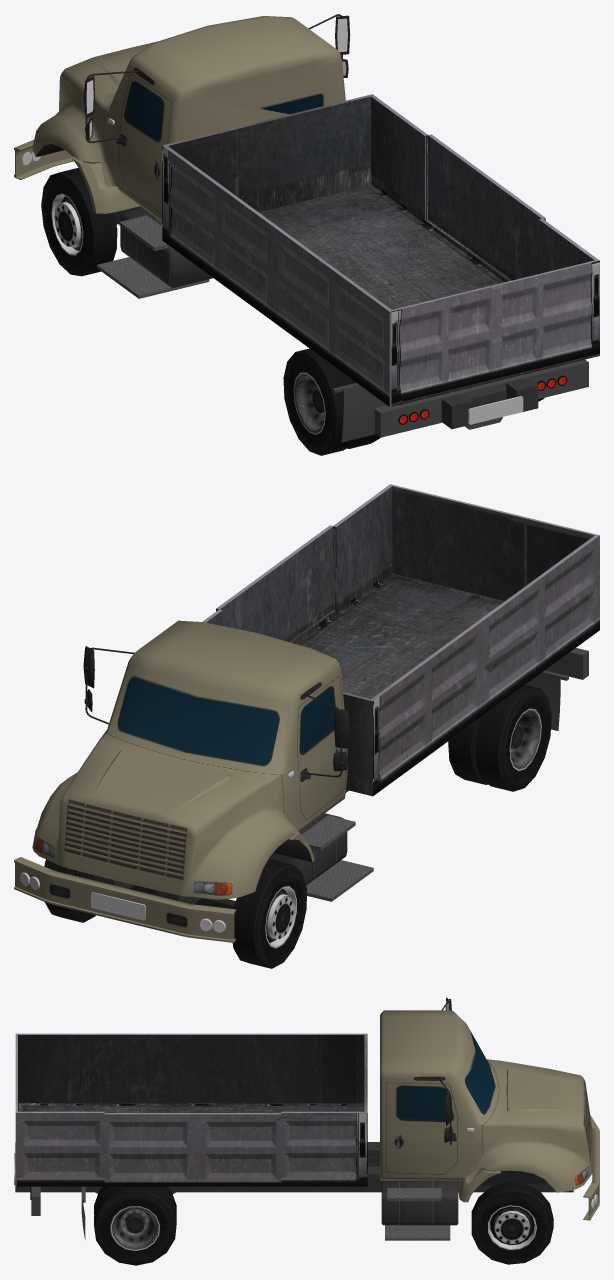
File: M_truck.fbx
3 renders of one model, top to bottom at view 1: azimuth 30°, elevation 25°; view 2: azimuth 150°, elevation 25°; view 3: azimuth 270°, elevation 25°, orthographic. The views are drawn at different scales.
Parts seen in each view (by area): view 1: M_truck_bed, M_truck_front, M_truck_bed_door, M_truck_bed_door02, M_wheel02, M_wheel_back02, M_truck_down, M_truck_front_piece; view 2: M_truck_front, M_truck_bed, M_truck_bed_door, M_truck_front_piece, M_truck_bed_door02, M_wheel_back02, M_wheel02, M_truck_down, M_wheel01; view 3: M_truck_bed, M_truck_front, M_truck_bed_door02, M_wheel_back01, M_wheel01, M_truck_down, M_truck_front_piece.
Part boxes in pixels (x1,y1,x2,y2): M_truck_bed: (162,94,599,406); M_truck_front: (32,14,588,442); M_truck_bed_door: (392,260,596,397); M_truck_bed_door02: (428,134,545,280); M_wheel02: (41,168,117,276); M_wheel_back02: (283,348,380,455); M_truck_down: (96,208,212,298); M_truck_front_piece: (14,139,74,179); M_truck_front: (32,620,588,908); M_truck_bed: (202,484,599,796); M_truck_bed_door: (392,485,595,600); M_truck_front_piece: (14,857,236,942); M_truck_bed_door02: (216,525,333,642); M_wheel_back02: (448,685,551,791); M_wheel02: (232,859,306,968); M_truck_down: (268,813,373,901); M_wheel01: (44,859,95,922); M_truck_bed: (15,1033,367,1186); M_truck_front: (14,997,593,1239); M_truck_bed_door02: (104,1113,280,1182); M_wheel_back01: (94,1186,176,1265); M_wheel01: (471,1181,553,1264); M_truck_down: (381,1181,458,1240); M_truck_front_piece: (583,1115,599,1220).
Size of the model in its own units: 3.07 by 2.73 by 7.59.
